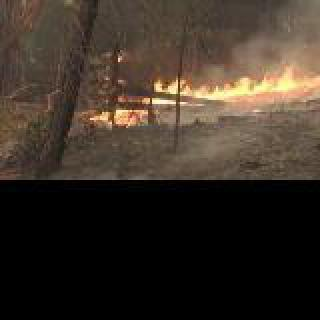fire: (142, 60, 320, 100), (244, 0, 320, 64), (90, 106, 142, 126), (104, 72, 126, 98), (118, 52, 124, 62)
